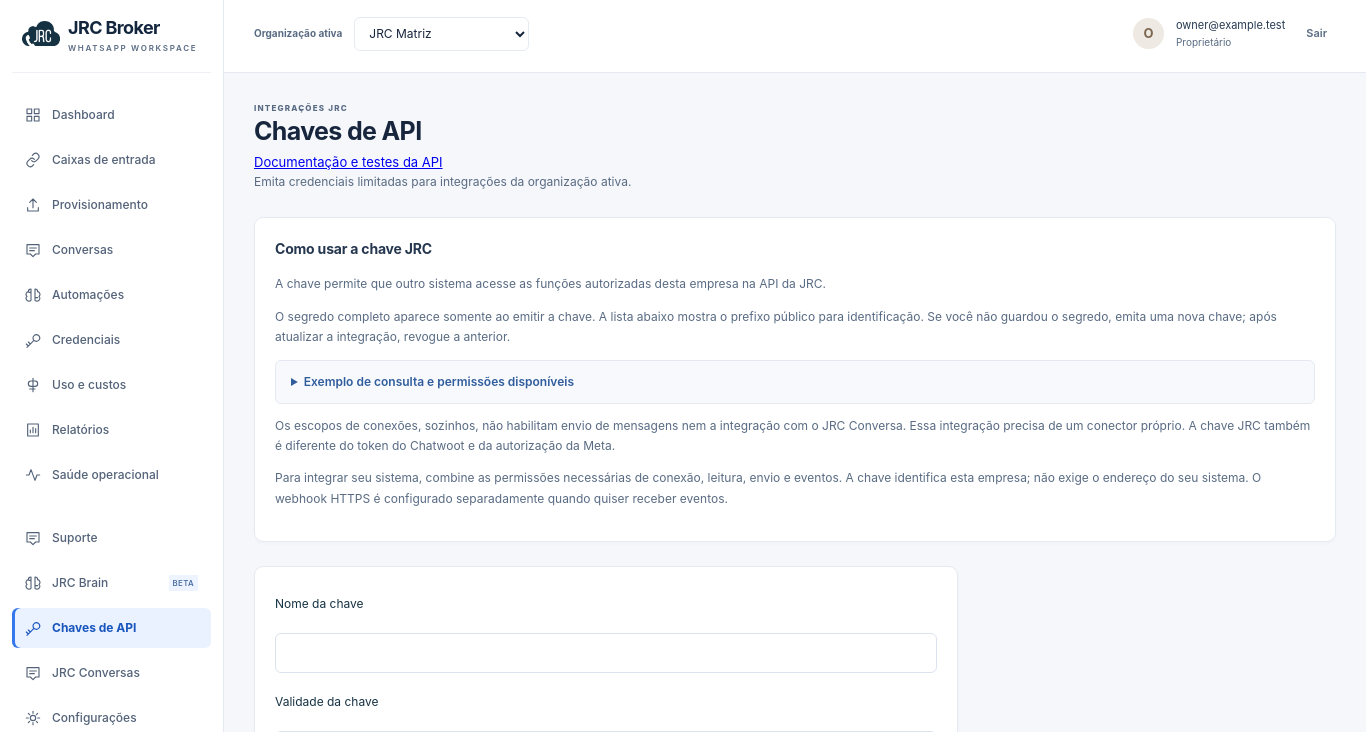
Test: ApiKeysPage › informa falha do clipboard e permite cópia manual
Step 1. Type "Automação" into the field labelled "Nome da chave" → (606, 653), box [275,633,937,673]
(page scrolled)
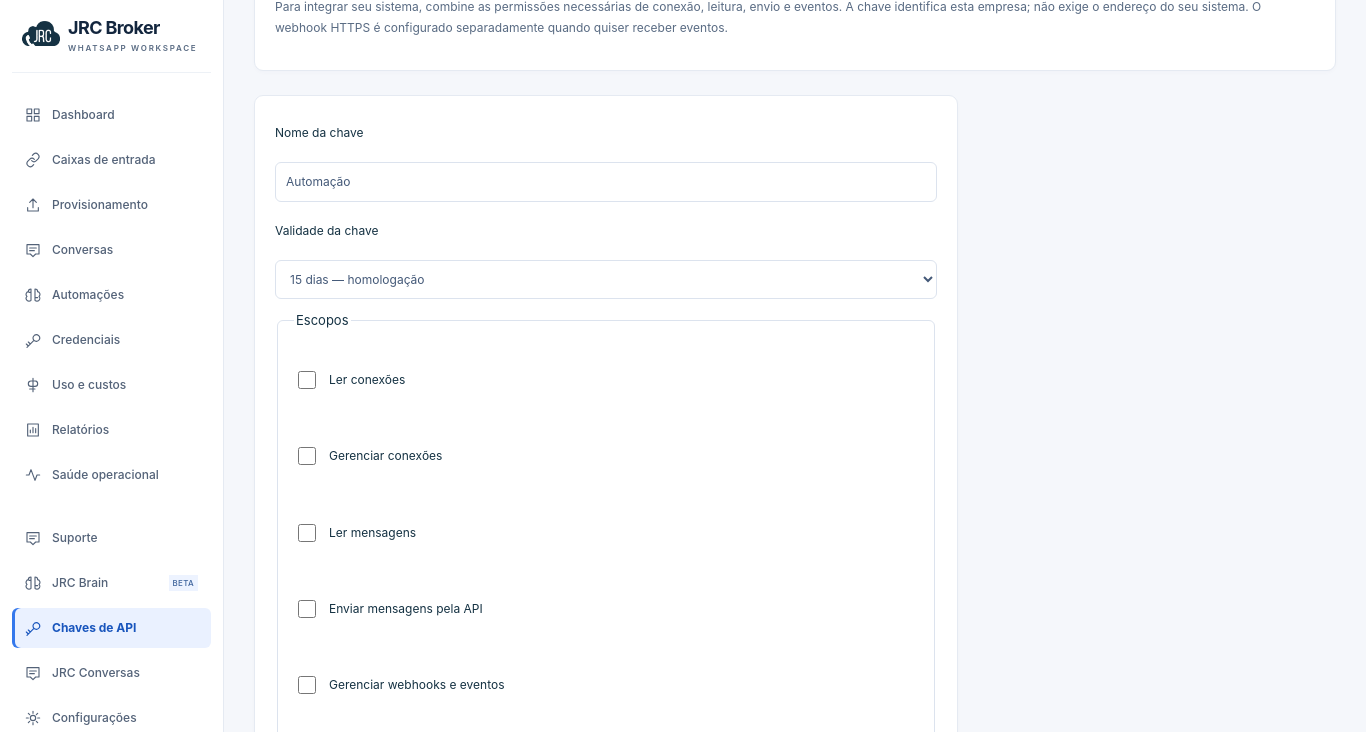
Step 2. Click the checkbox labelled "Ler conexões" → (307, 380), box [298,358,316,402]
(page scrolled)
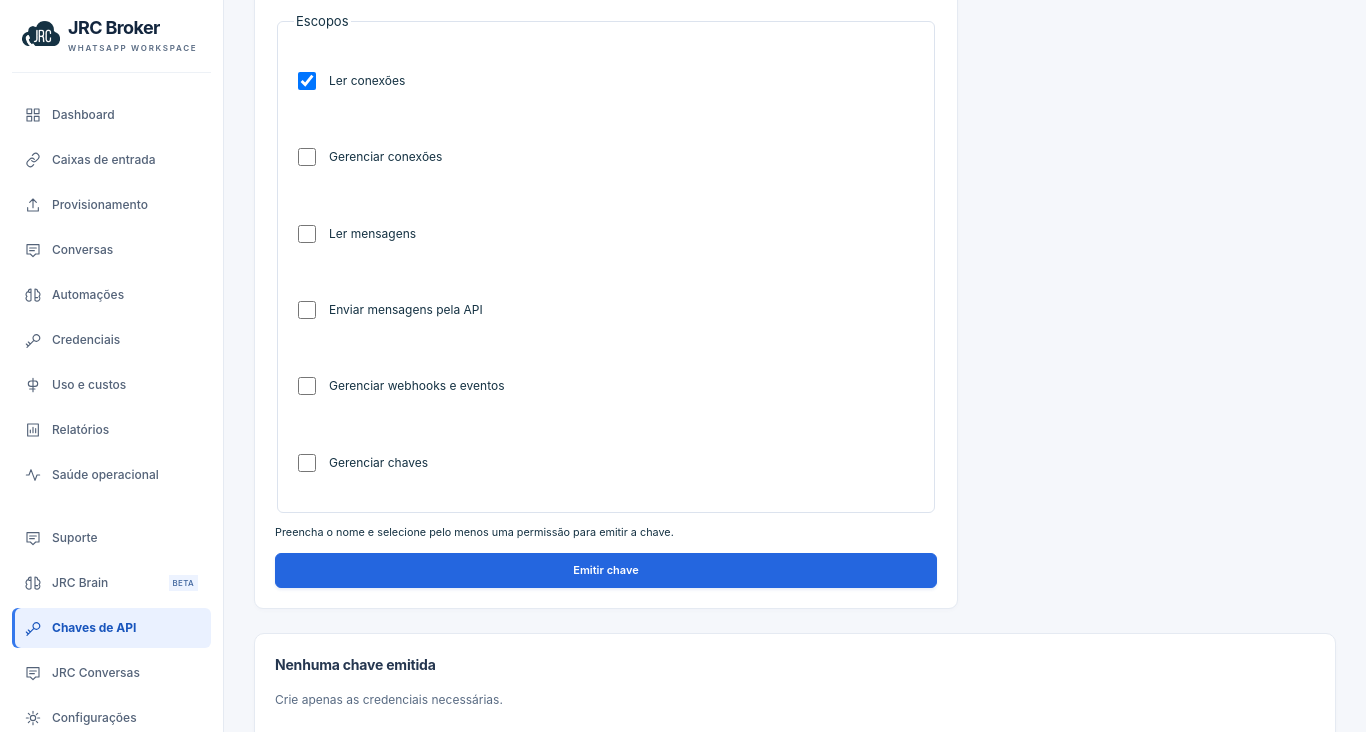
Step 3. Click the button "Emitir chave" → (606, 570), box [275,553,937,588]
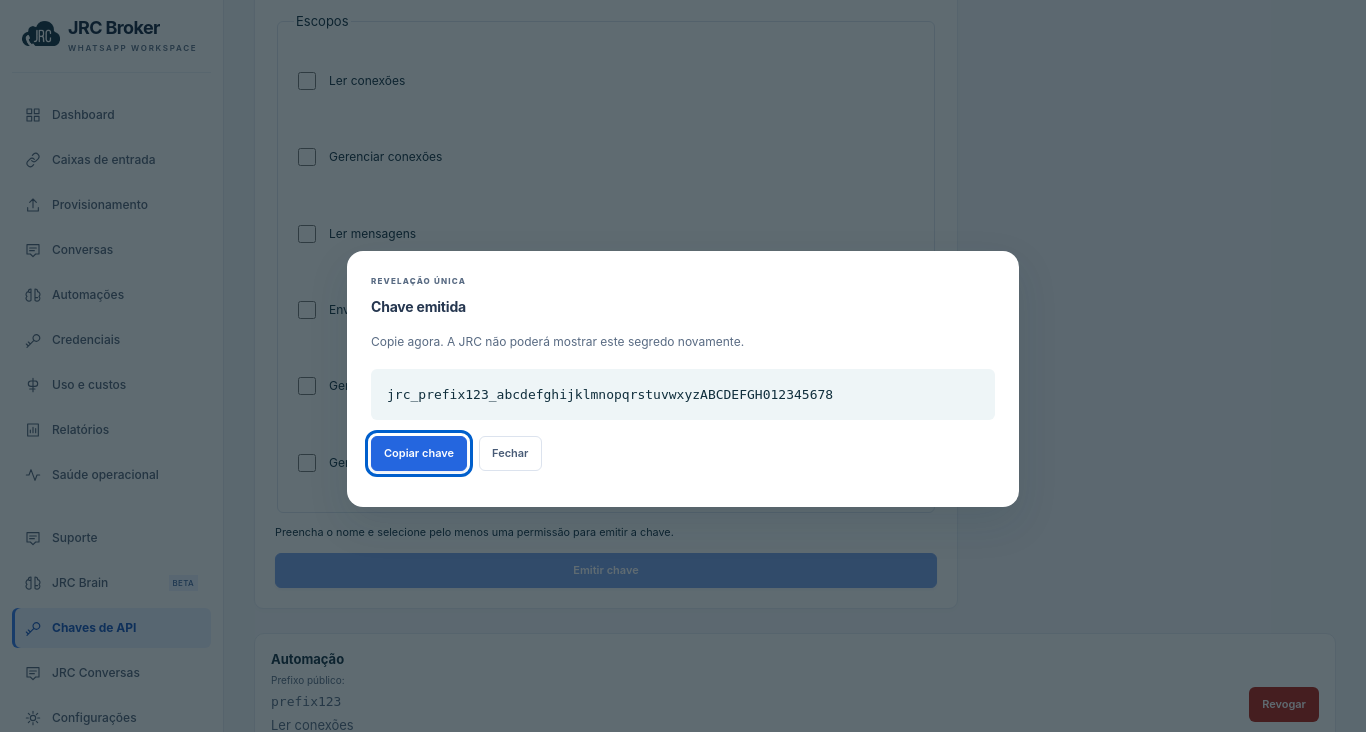
Step 4. Click the button "Copiar chave" → (419, 454), box [371,436,467,471]
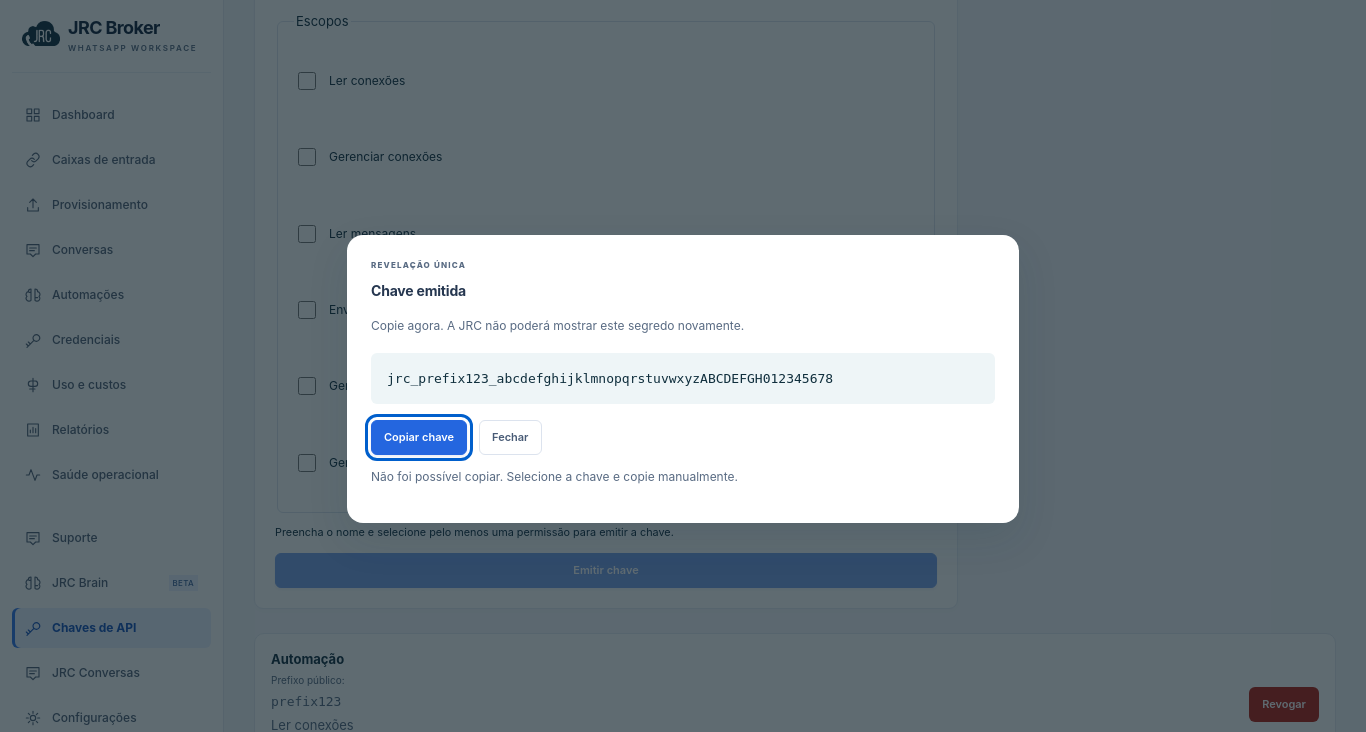
Expected: the text "Não foi possível copiar" is shown, [371,469,738,484]
